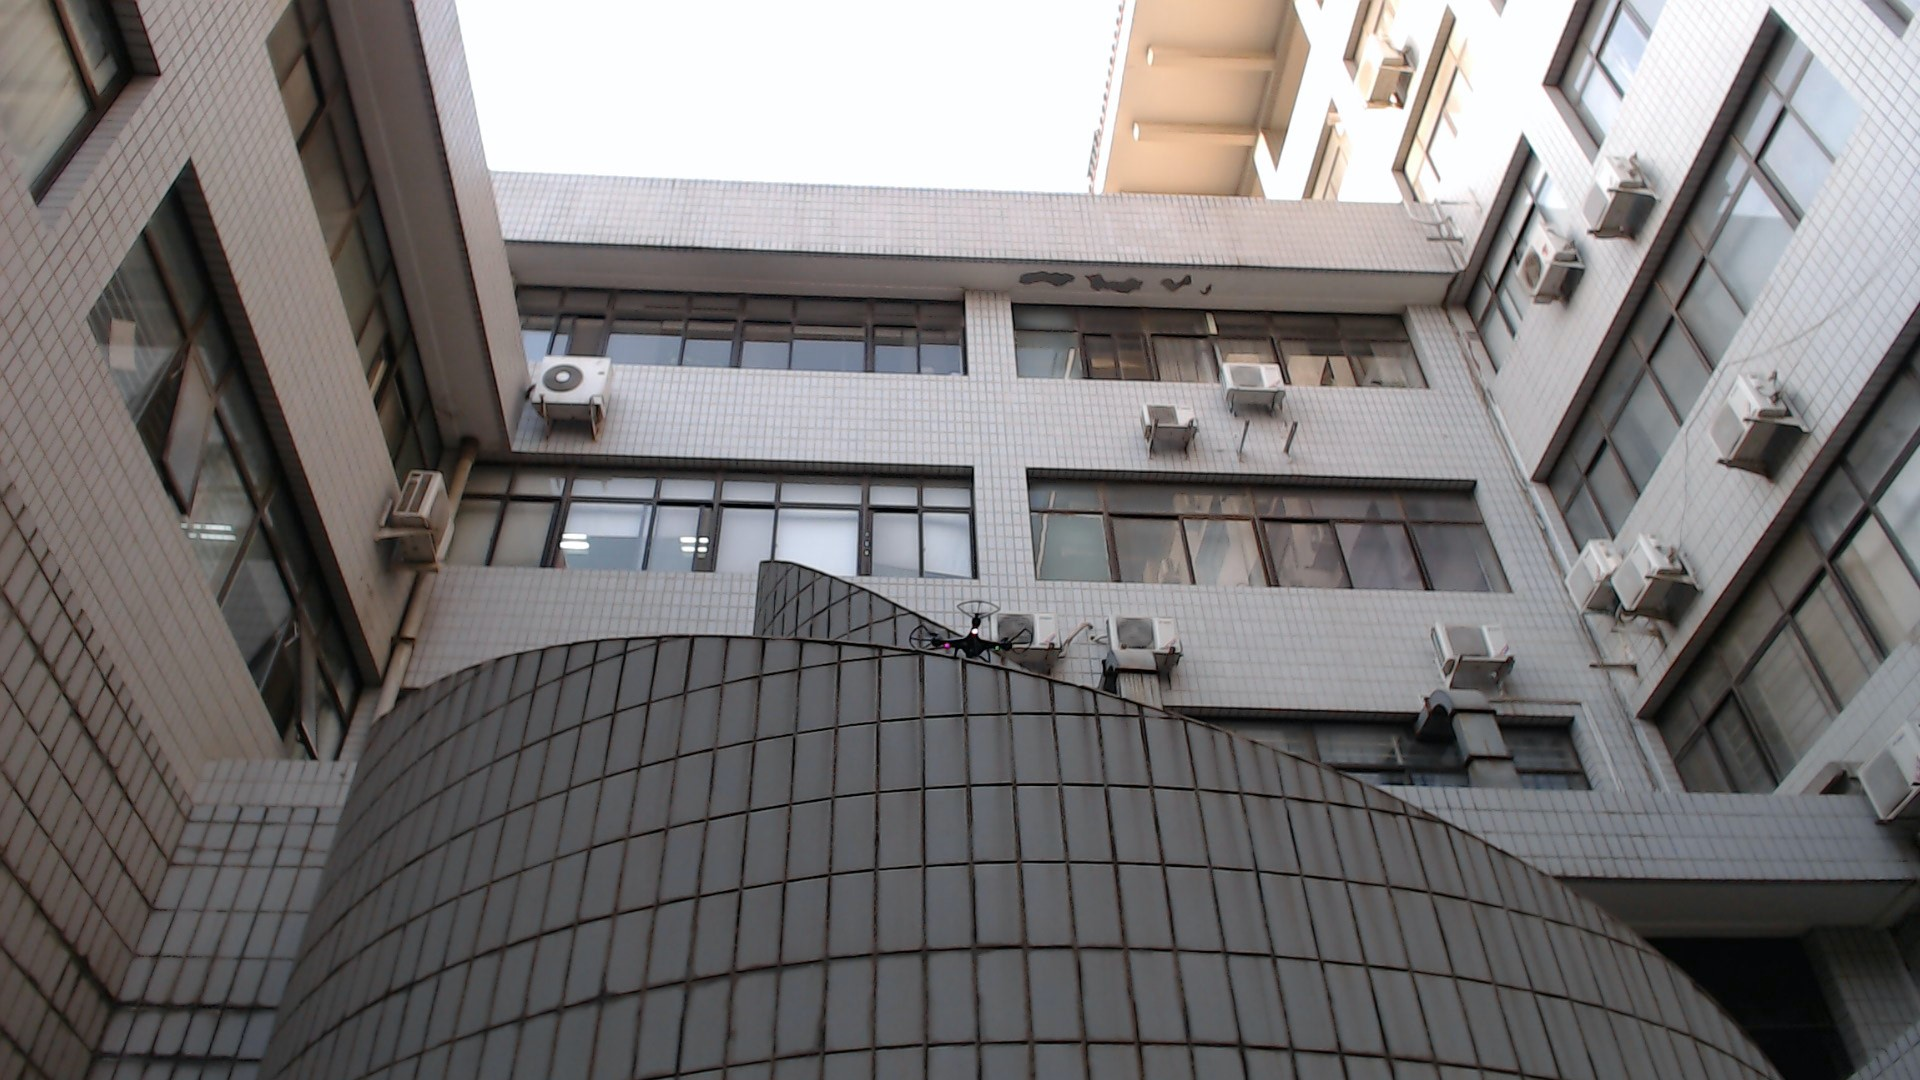drone: (894, 585, 1058, 688)
